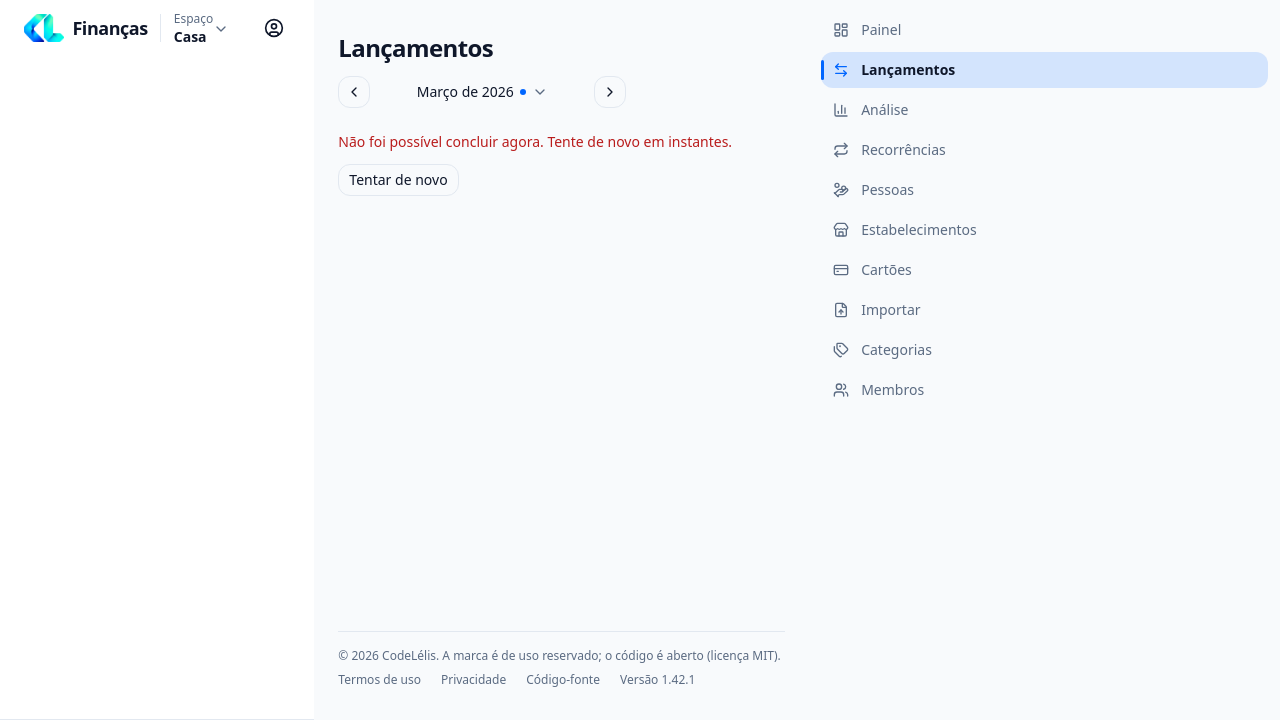
Test: PeriodNav › jumps to a month of another year, closing the picker
What coordinates should you click on to do the following:
click the button named "Escolher mês"
I would click on:
 (482, 92)
Its box is [378,76,586,108].
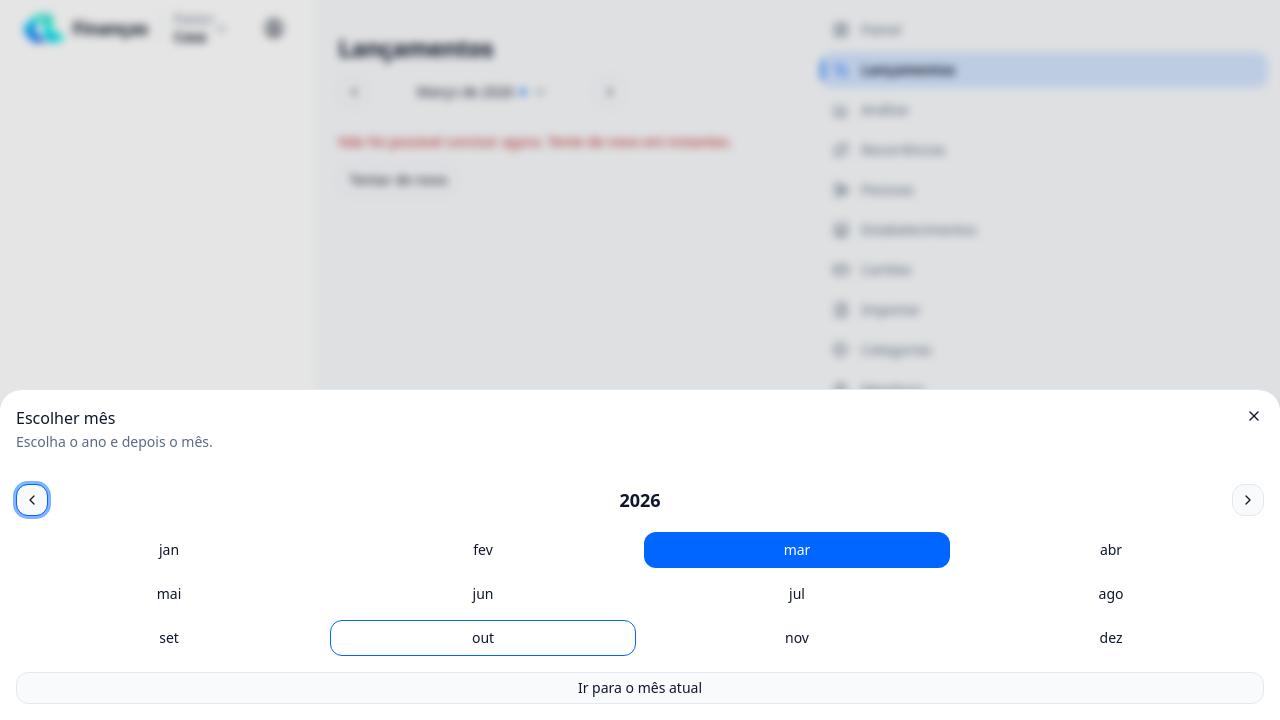
Check: the text "2026" is shown, box [619,486,661,514]
Check: the link named "out, outubro de 2026, mês atual" is shown, box [330,620,636,656]
What coordinates should you click on to do the following:
click the button named "Ano anterior: 2025"
I would click on:
 (32, 500)
Its box is [16,484,48,516].
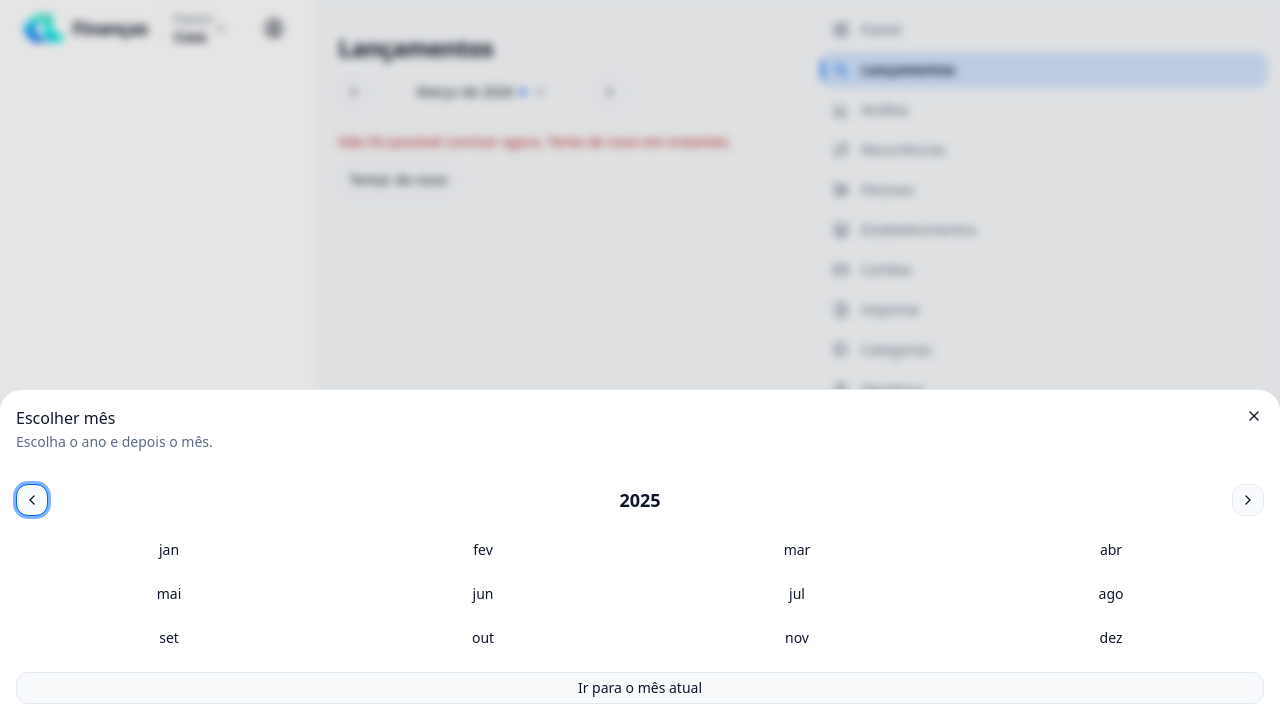
What coordinates should you click on to do the following:
click the link named "mar, março de 2025"
I would click on:
 (842, 554)
Its box is [784,540,901,568].
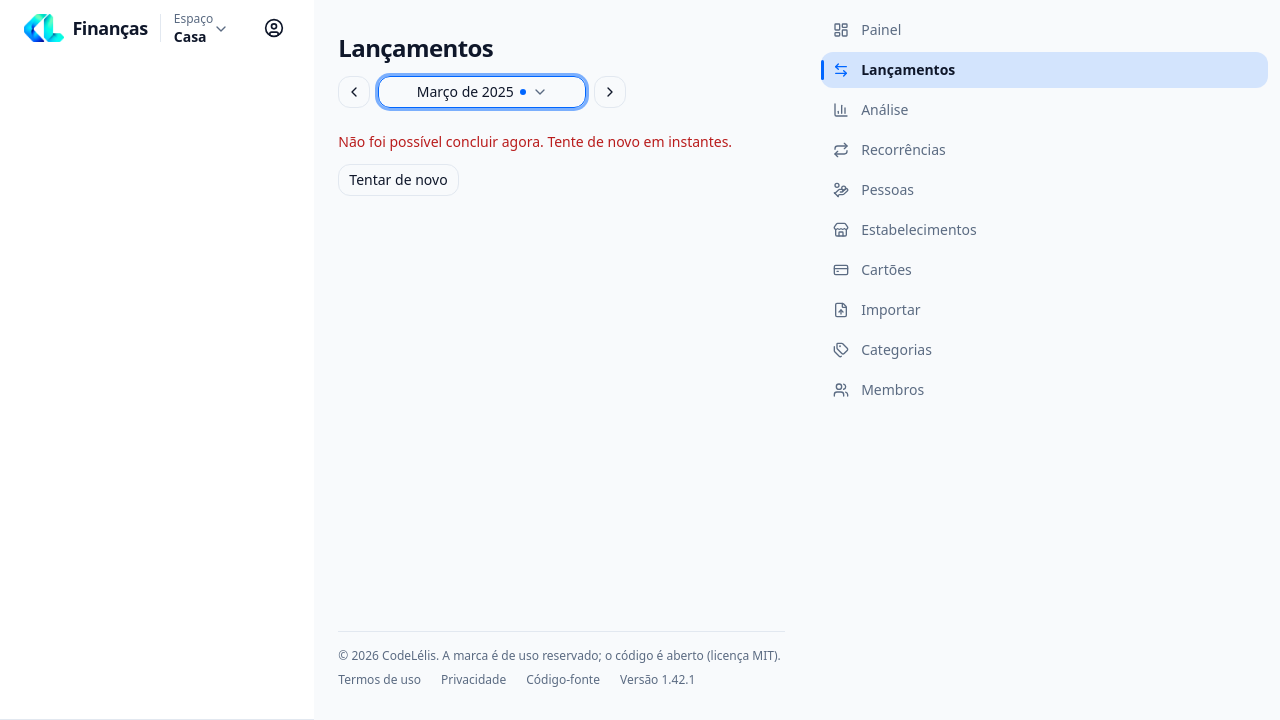
Check: the text "março de 2025" is shown, box [417,82,514,102]
Check: the dialog is gone
